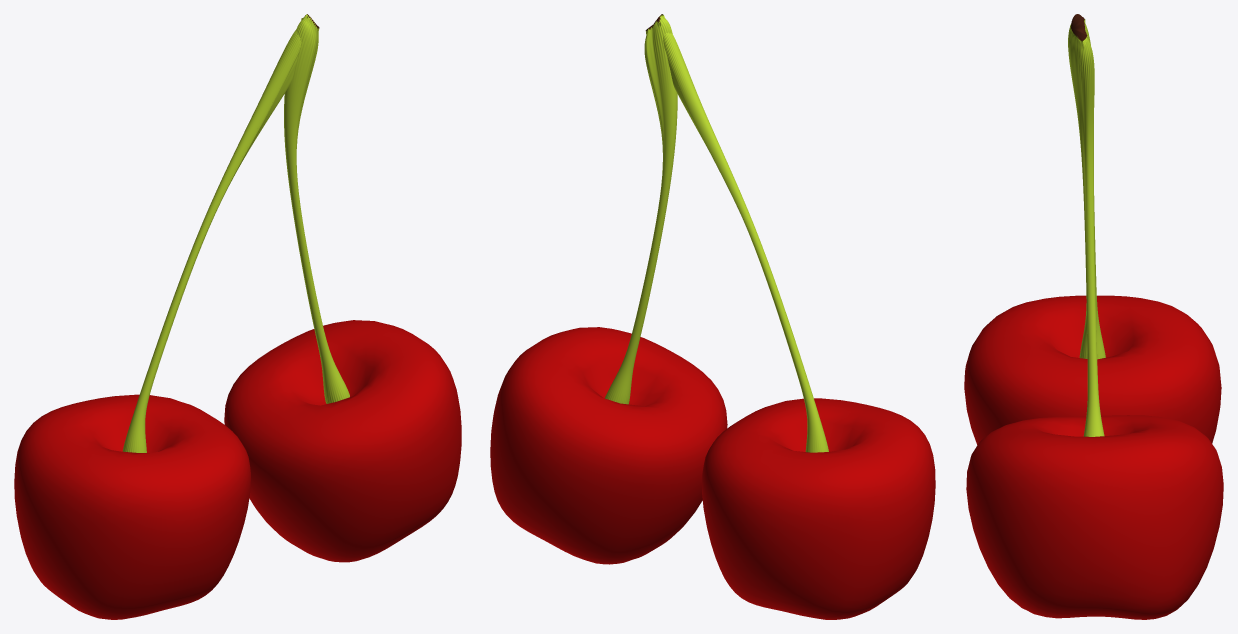
3 views of the same model, side by side, from view 1: azimuth 30°, elevation 25°; view 2: azimuth 150°, elevation 25°; view 3: azimuth 270°, elevation 25° (orthographic). The views are drawn at different scales.
Visible parts, largest first — view 1: Cube, Cube.001, Cylinder.001, Cylinder; view 2: Cube, Cube.001, Cylinder, Cylinder.001; view 3: Cube, Cube.001, Cylinder, Cylinder.001.
Boxes of the visible parts, bbox=[...] form: Cube: bbox=[224, 320, 461, 562]; Cube.001: bbox=[14, 394, 250, 619]; Cylinder.001: bbox=[122, 30, 301, 452]; Cylinder: bbox=[284, 14, 349, 403]; Cube: bbox=[490, 327, 727, 564]; Cube.001: bbox=[702, 398, 935, 619]; Cylinder: bbox=[604, 14, 677, 404]; Cylinder.001: bbox=[663, 32, 828, 452]; Cube: bbox=[966, 415, 1223, 619]; Cube.001: bbox=[964, 295, 1221, 444]; Cylinder: bbox=[1068, 14, 1104, 436]; Cylinder.001: bbox=[1079, 40, 1105, 359].
Size of the model in its own units: 2.3 by 2.86 by 1.17.
